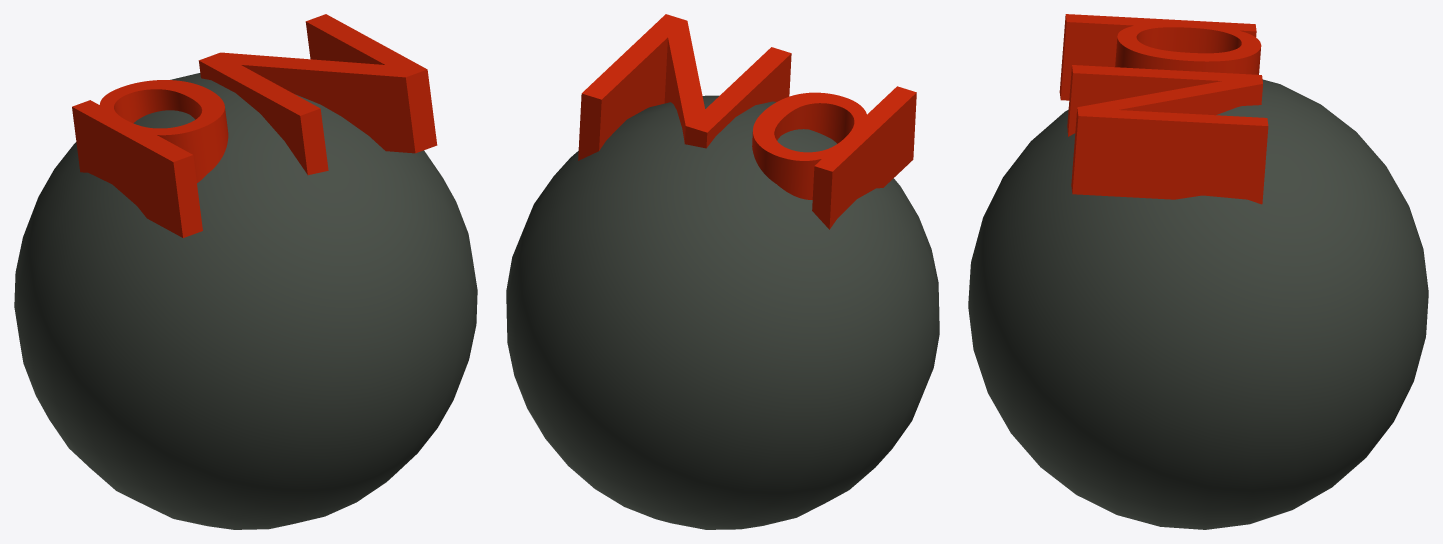
The picture shows the model from 3 angles, left to right: view 1: azimuth 30°, elevation 25°; view 2: azimuth 150°, elevation 25°; view 3: azimuth 270°, elevation 25°; orthographic projection. The views are drawn at different scales.
Parts seen in each view (by area): view 1: Nd; view 2: Nd; view 3: Nd.
Part boxes in pixels (<box>): Nd: <box>14,14,477,529</box>; Nd: <box>506,14,939,529</box>; Nd: <box>968,14,1428,529</box>.
Size of the model in its own units: 38.63 by 41.8 by 38.71.
